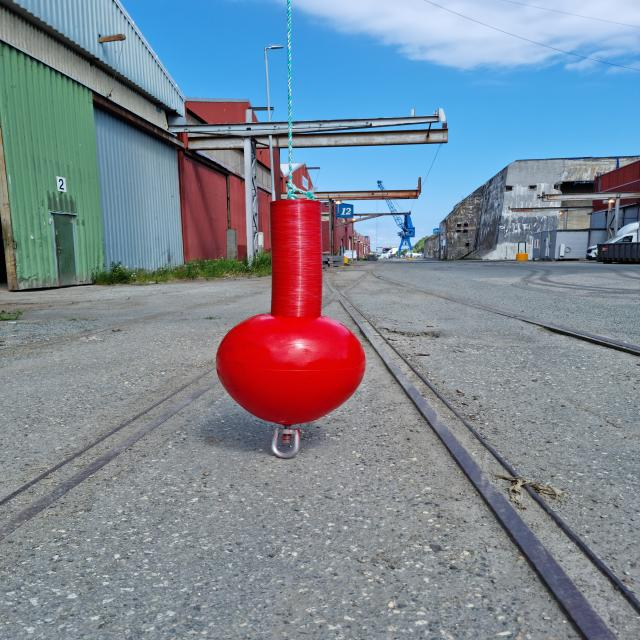red: (216, 200, 367, 425)
